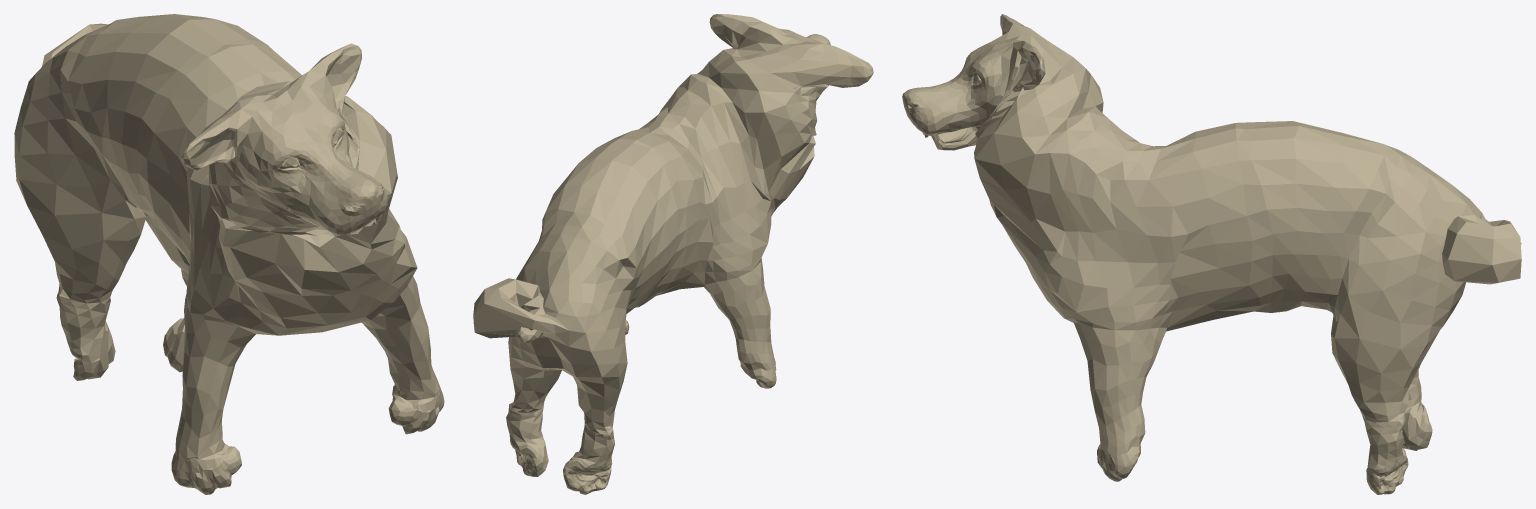
The picture shows the model from 3 angles, left to right: view 1: azimuth 30°, elevation 25°; view 2: azimuth 150°, elevation 25°; view 3: azimuth 270°, elevation 25°; orthographic projection. The views are drawn at different scales.
Parts seen in each view (by area): view 1: world; view 2: world; view 3: world.
Boxes of the visible parts, bbox=[...] form: world: bbox=[14, 14, 444, 494]; world: bbox=[473, 14, 873, 494]; world: bbox=[902, 14, 1521, 494].
Bounding box in the file's own units: 0.5578 × 0.7962 × 1.07.
